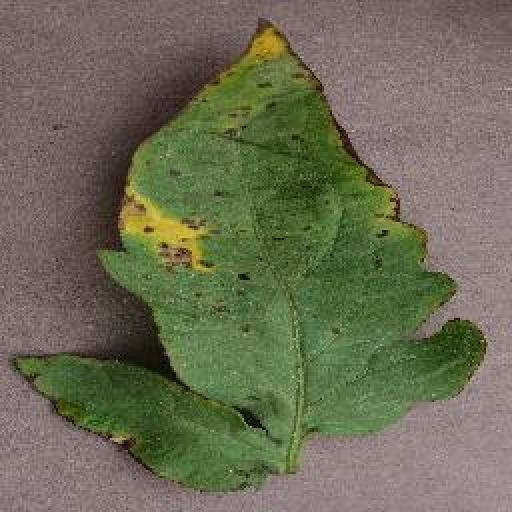Bacterial Spot: (10, 13, 490, 499)
